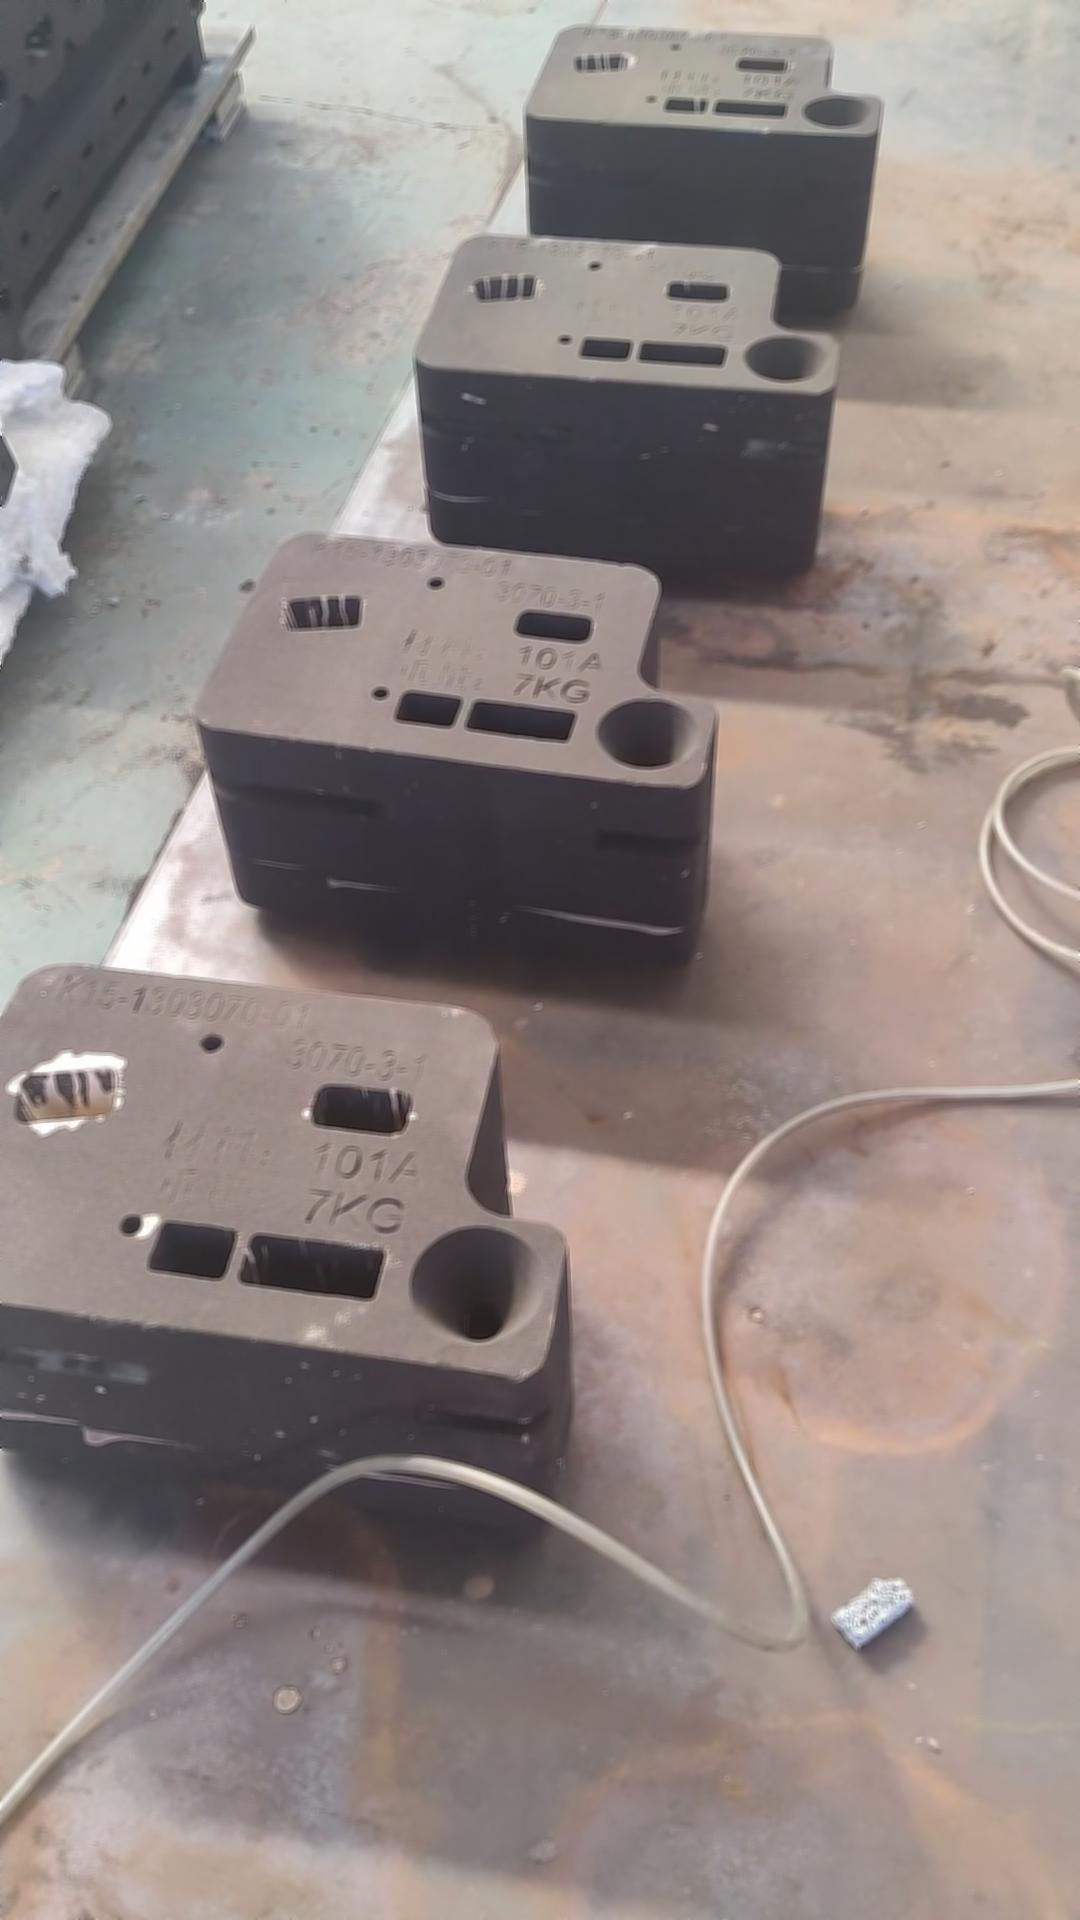pouring hole: (410, 1226, 546, 1342), (595, 698, 698, 769), (745, 335, 825, 382), (800, 96, 872, 128)
